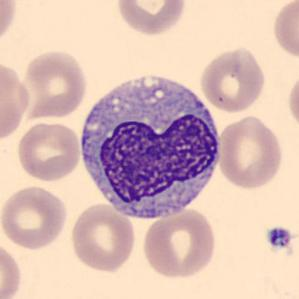Monocyte: (74, 63, 228, 226)
Platelets: (265, 226, 295, 252)
RBC: (140, 205, 219, 281), (215, 114, 285, 190), (67, 201, 137, 274), (21, 47, 89, 122), (198, 44, 268, 113), (0, 183, 70, 251), (14, 120, 83, 183), (0, 57, 32, 145), (113, 0, 188, 37), (271, 0, 298, 61), (0, 237, 24, 298), (0, 0, 18, 50), (285, 69, 299, 133)
